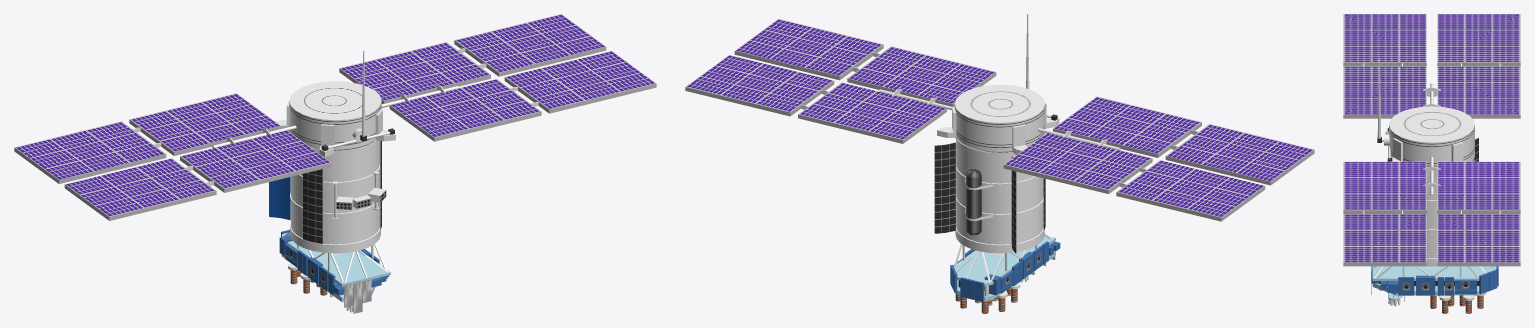
3 views of the same model, side by side, from view 1: azimuth 30°, elevation 25°; view 2: azimuth 150°, elevation 25°; view 3: azimuth 270°, elevation 25° (orthographic). The views are drawn at different scales.
Parts seen in each view (by area): view 1: glonass_m (×2); view 2: glonass_m (×2); view 3: glonass_m (×2).
Part boxes in pixels (bbox=[...]): glonass_m (×2): bbox=[14, 14, 656, 313]; glonass_m (×2): bbox=[685, 14, 1314, 313]; glonass_m (×2): bbox=[1343, 14, 1520, 313].
Size of the model in its own units: 5.72 by 2.66 by 1.72.
2 materials, 1 textured.
